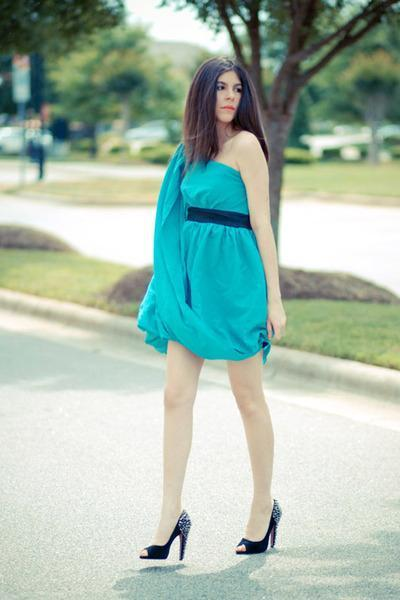dress: (138, 145, 271, 362)
shoe: (140, 505, 280, 559)
